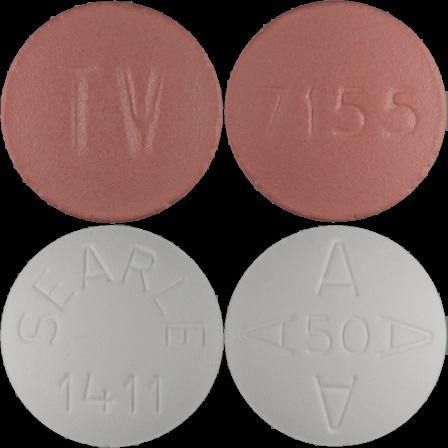55289-395: (0, 0, 224, 224)
